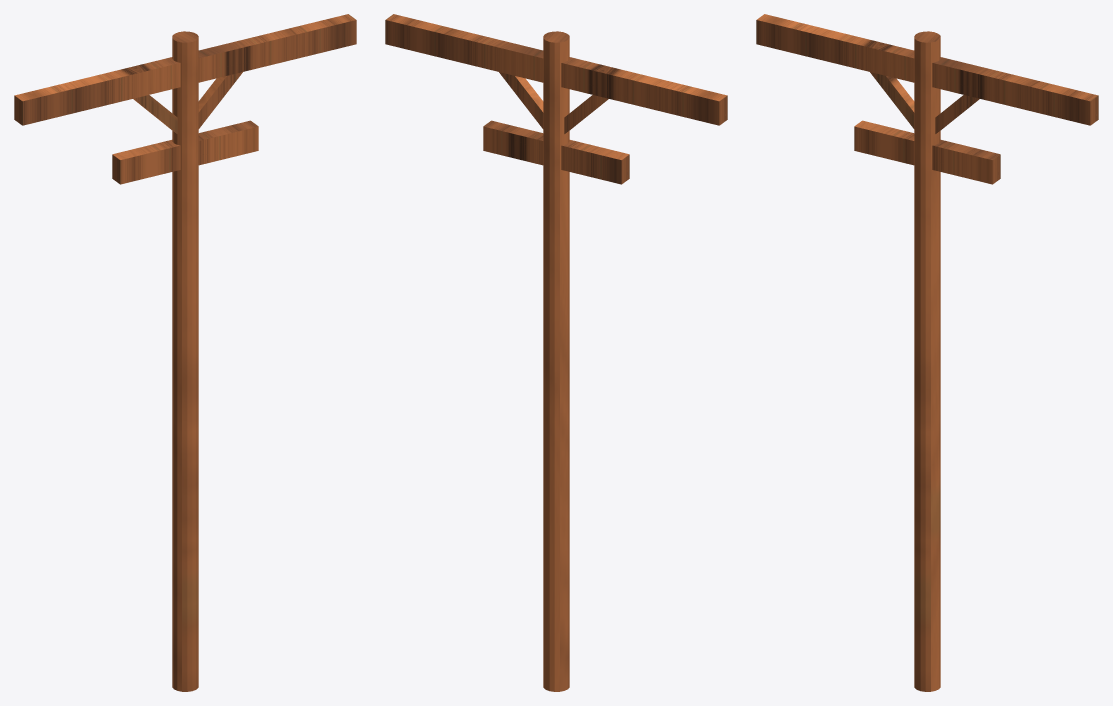
Rendered from eletric_(pole)_(transformer).001_wood_(light)_(table)_(dirty)_0.glb.
The picture shows the model from 3 angles, left to right: view 1: azimuth 30°, elevation 25°; view 2: azimuth 150°, elevation 25°; view 3: azimuth 330°, elevation 25°; orthographic projection.
Parts seen in each view (by area): view 1: eletric_(pole)_(transformer).001_wood_(light)_(table)_(dirty; view 2: eletric_(pole)_(transformer).001_wood_(light)_(table)_(dirty; view 3: eletric_(pole)_(transformer).001_wood_(light)_(table)_(dirty.
Boxes of the visible parts, x1=… form: eletric_(pole)_(transformer).001_wood_(light)_(table)_(dirty: x1=14, y1=14, x2=356, y2=691; eletric_(pole)_(transformer).001_wood_(light)_(table)_(dirty: x1=385, y1=14, x2=727, y2=691; eletric_(pole)_(transformer).001_wood_(light)_(table)_(dirty: x1=756, y1=14, x2=1098, y2=691.
Size of the model in its own units: 1.73 by 3.21 by 0.1204.
1 material, 1 textured.
